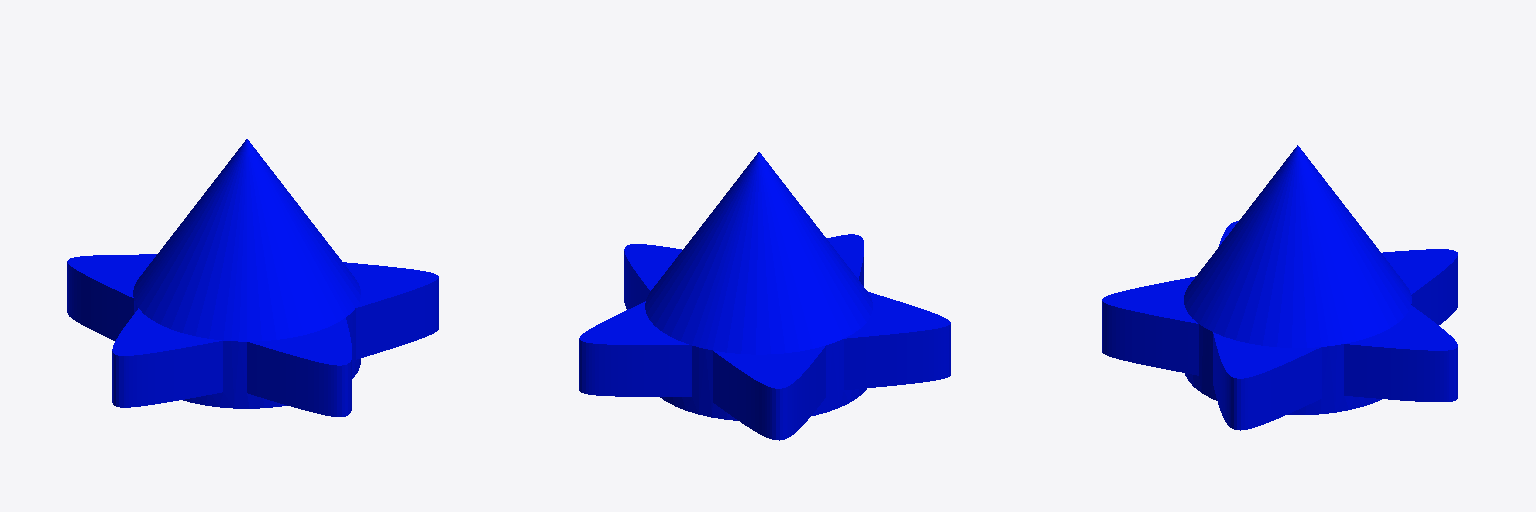
The model's file is body1_visual.obj.
3 renders of one model, left to right at view 1: azimuth 30°, elevation 25°; view 2: azimuth 150°, elevation 25°; view 3: azimuth 270°, elevation 25°, orthographic.
Visible parts, largest first — view 1: Body1; view 2: Body1; view 3: Body1.
Part boxes in pixels (left/top/right/bottom): Body1: left=67, top=139, right=438, bottom=416; Body1: left=579, top=152, right=950, bottom=440; Body1: left=1102, top=145, right=1457, bottom=430.
Size of the model in its own units: 6.54 by 4.3 by 6.24.